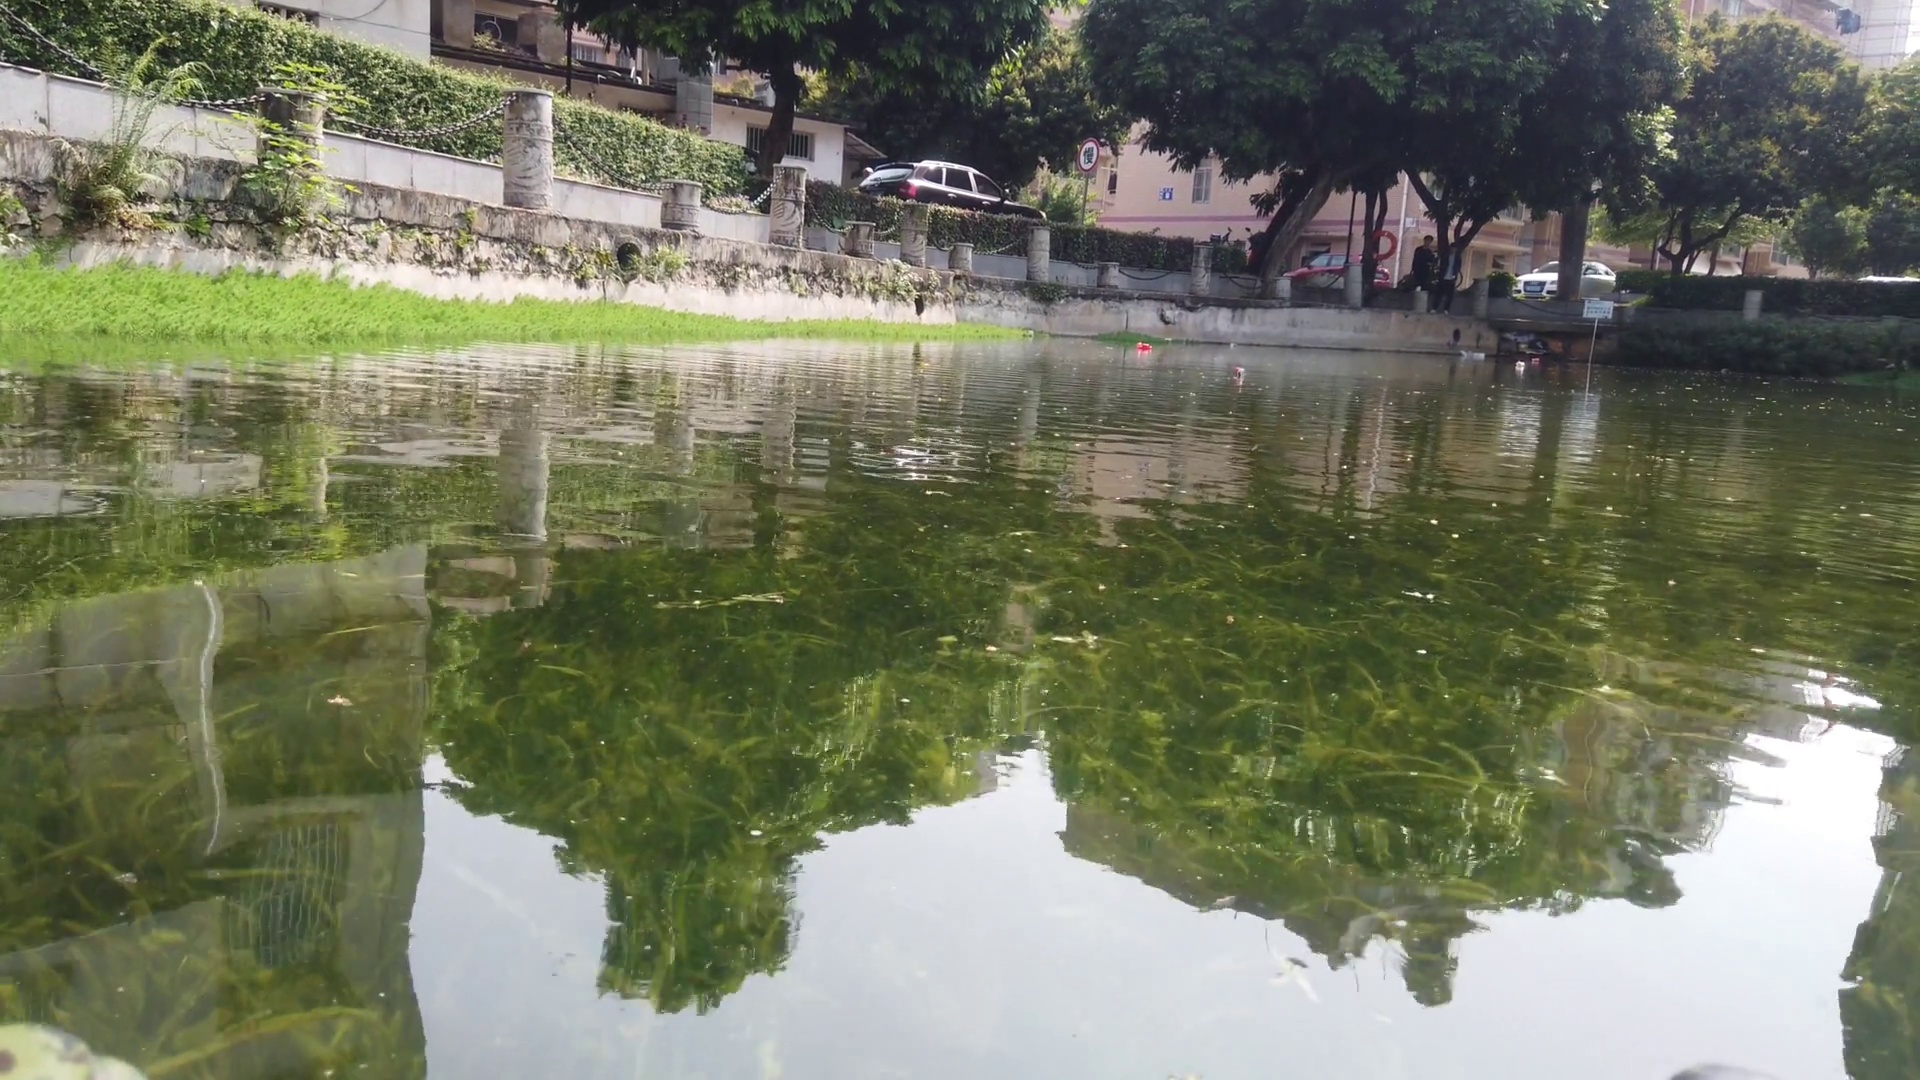bottle: (1232, 363, 1249, 378), (1526, 355, 1549, 365), (1135, 342, 1154, 353), (1515, 360, 1526, 375)
carton: (1469, 351, 1490, 364), (1460, 348, 1473, 367)
